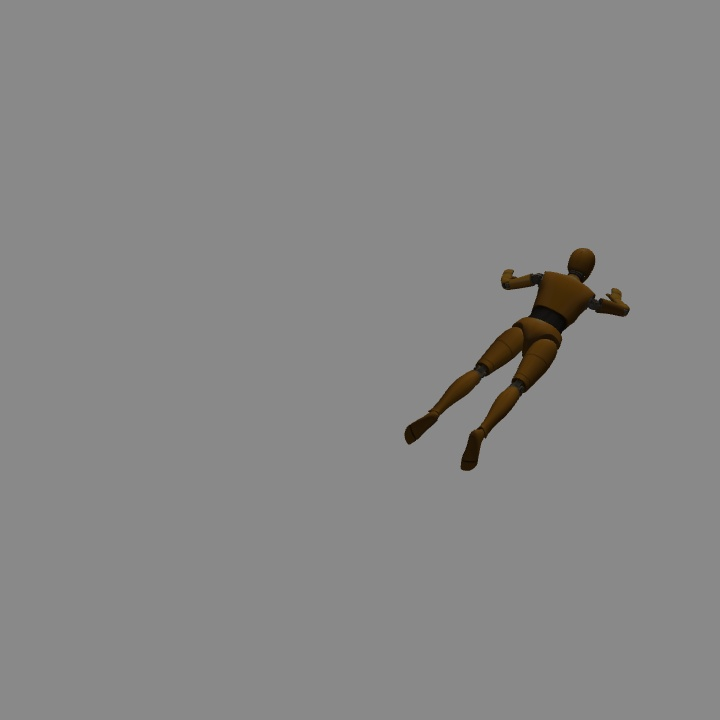victim: (407, 248, 629, 470)
